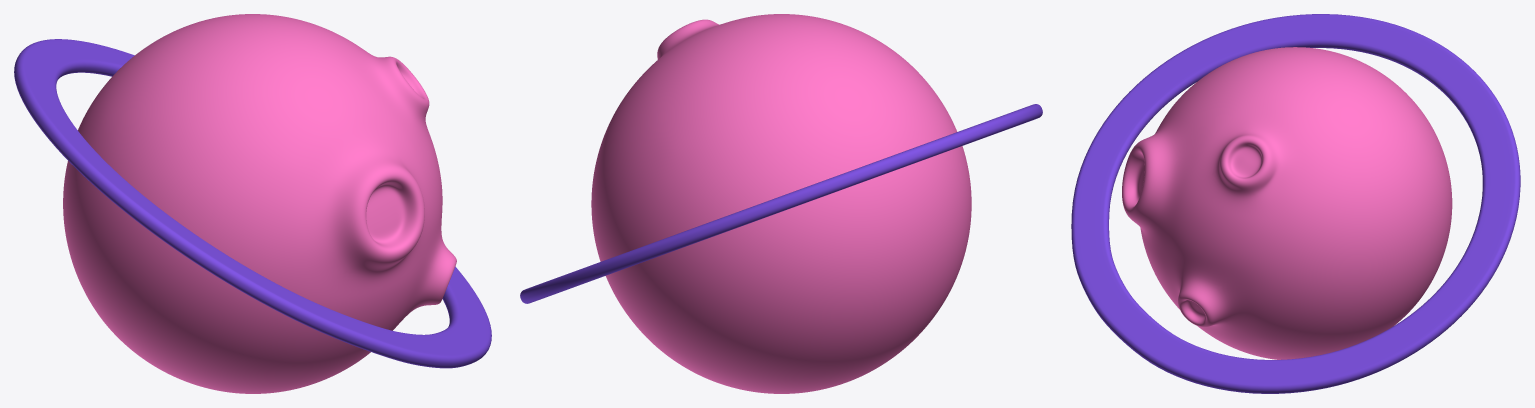
The model's file is Planet-5.fbx.
3 views of the same model, side by side, from view 1: azimuth 30°, elevation 25°; view 2: azimuth 150°, elevation 25°; view 3: azimuth 270°, elevation 25° (orthographic). The views are drawn at different scales.
Parts seen in each view (by area): view 1: Roundcube, Roundcube.001; view 2: Roundcube, Roundcube.001; view 3: Roundcube, Roundcube.001.
Boxes of the visible parts, bbox=[...] form: Roundcube: bbox=[63, 14, 456, 393]; Roundcube.001: bbox=[14, 39, 491, 368]; Roundcube: bbox=[591, 14, 971, 393]; Roundcube.001: bbox=[520, 104, 1042, 303]; Roundcube: bbox=[1122, 47, 1452, 359]; Roundcube.001: bbox=[1071, 14, 1520, 393].
Size of the model in its own units: 277 by 218 by 311.
